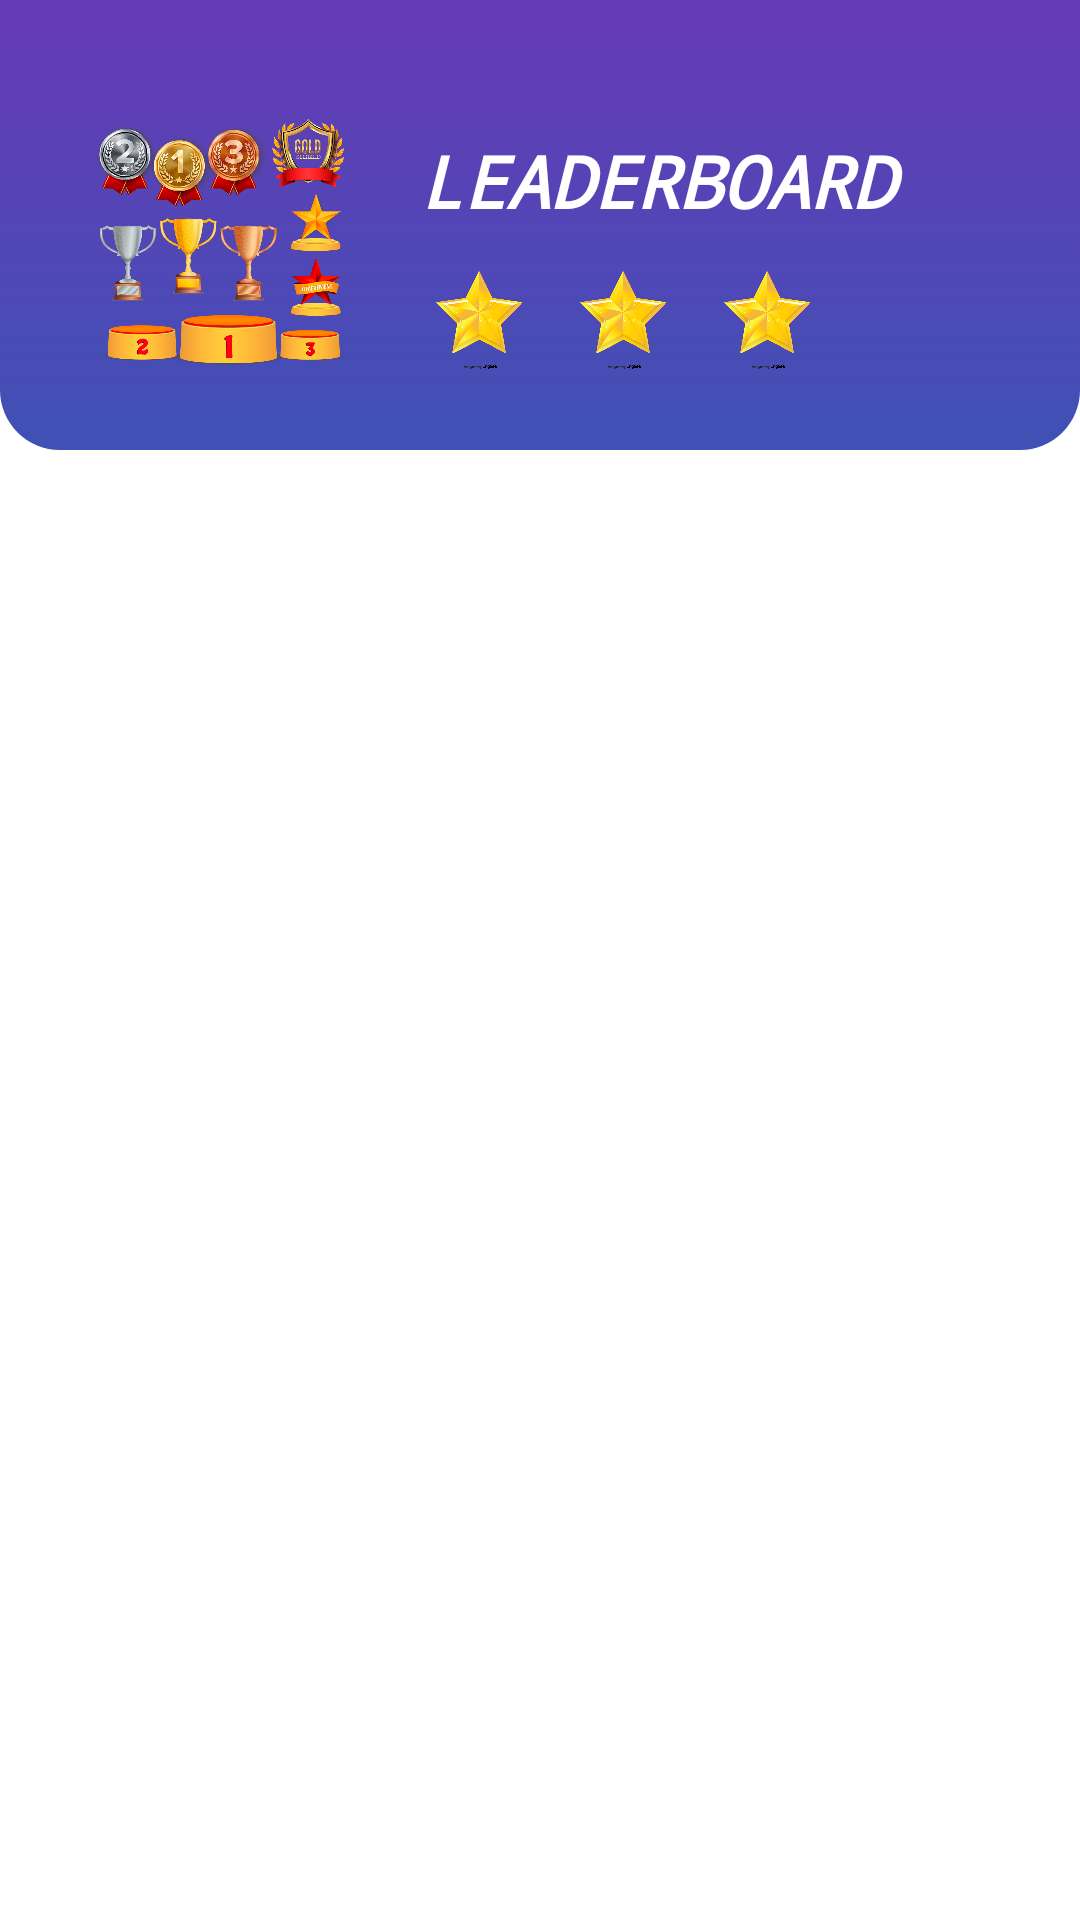

Locate icon controls on the screen. Image size 1080px×1920px, boxes as (x1, y1, x2, y2).
star: (436, 271, 522, 369), (580, 271, 666, 369), (724, 271, 810, 369)
